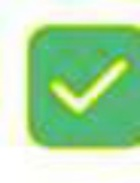CheckBox: (1, 1, 139, 182)
